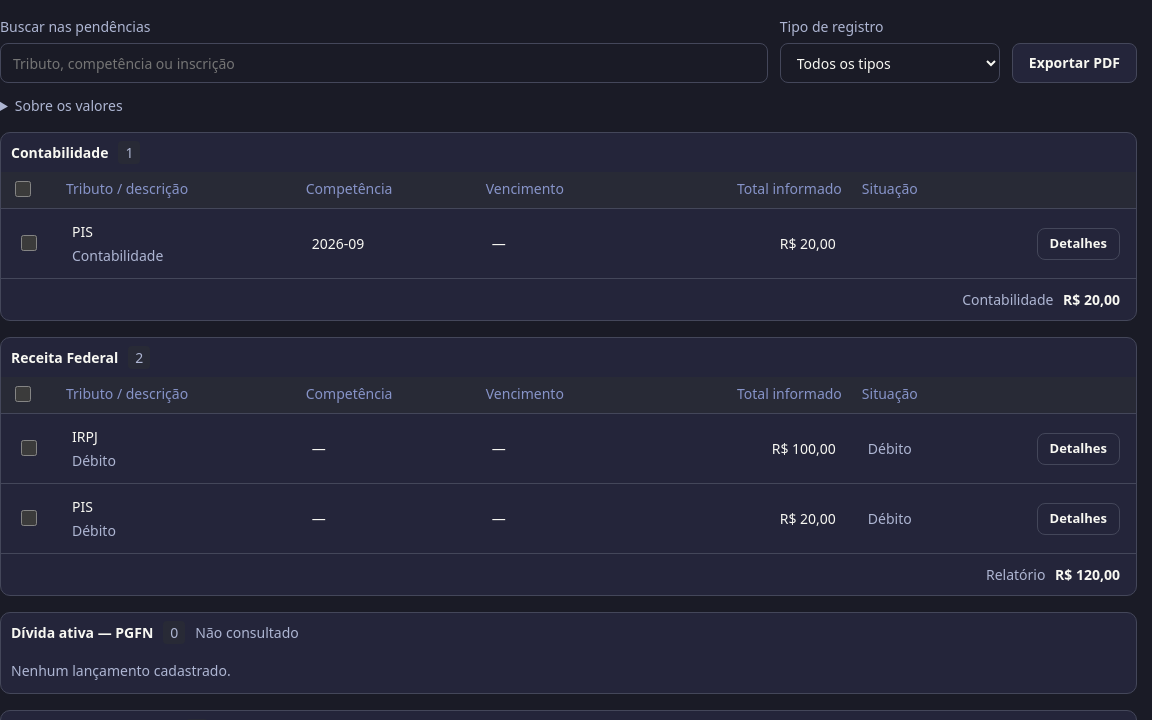
Test case: permite excluir uma fonte coincidente e registros individuais sem juntar origens
Click the button "Exportar PDF": (1074, 63) [1012,43,1137,83]
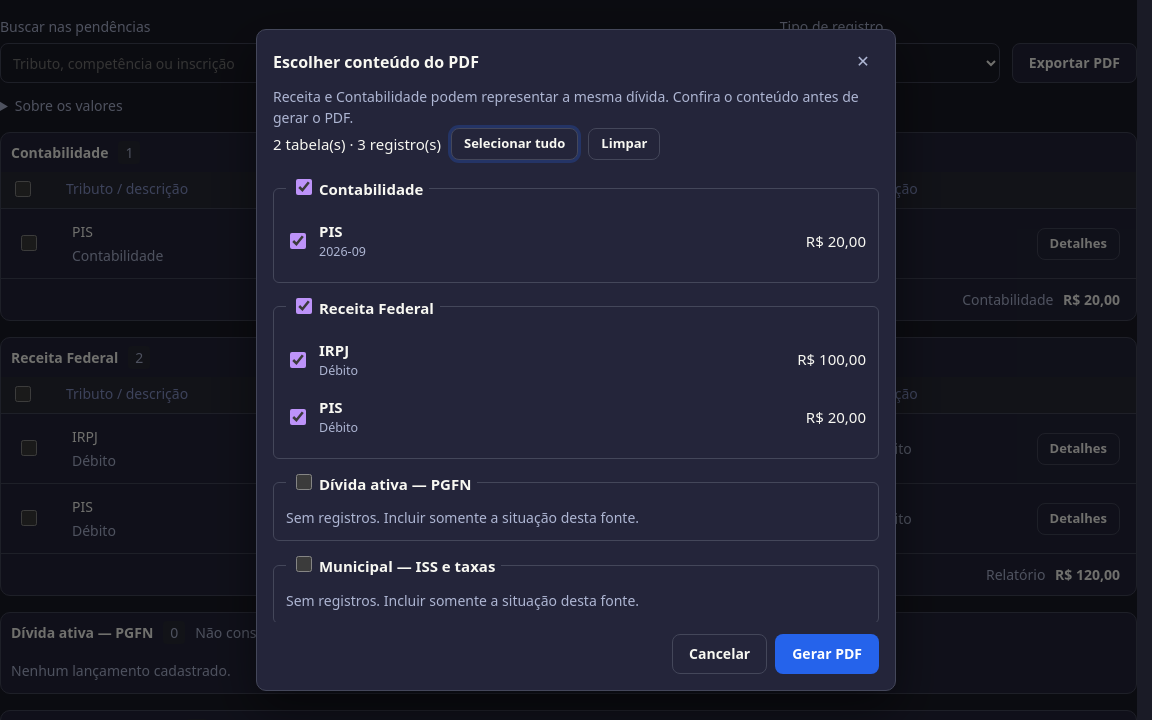
Click the checkbox named "Incluir tabela Contabilidade": (304, 187) [296,179,312,195]
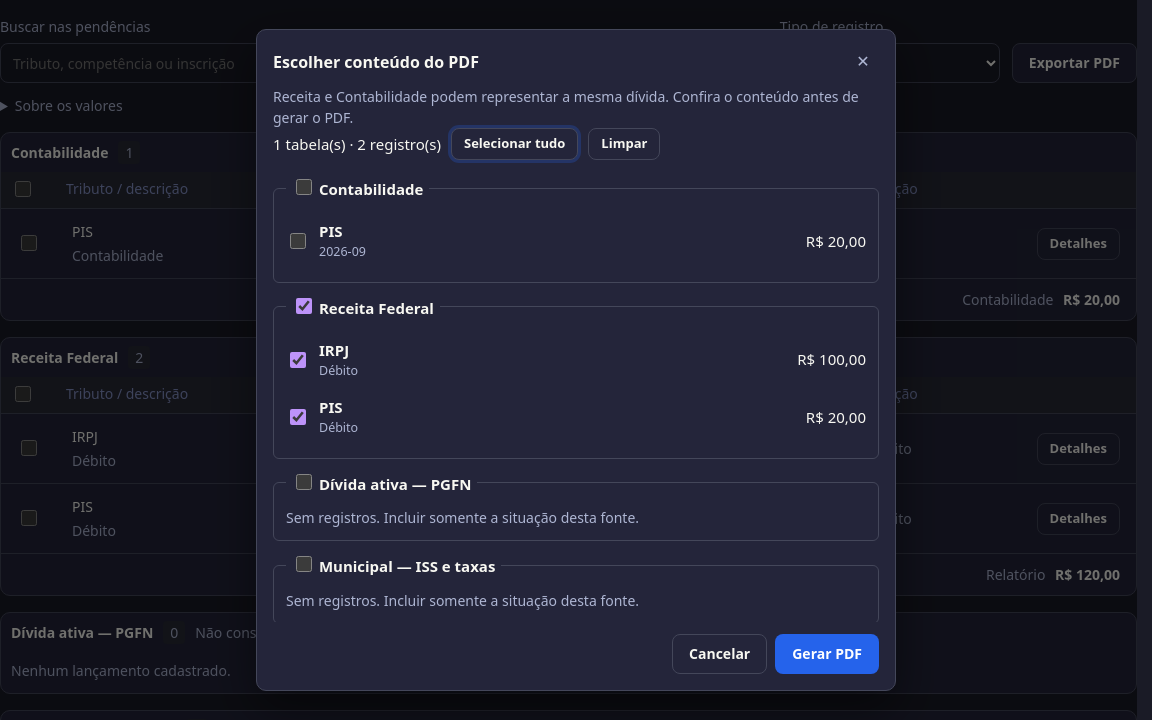
Click the checkbox named "Incluir IRPJ": (298, 360) [290,352,306,368]
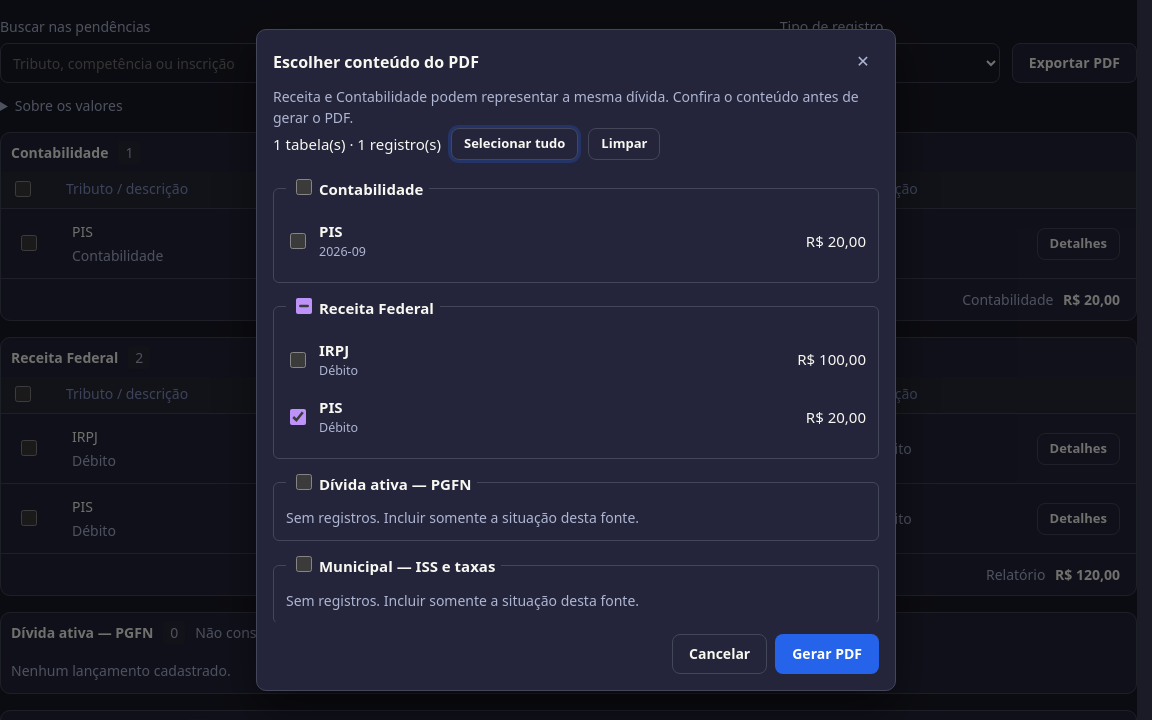
Click the button "Gerar PDF": (827, 654) [775,634,879,674]
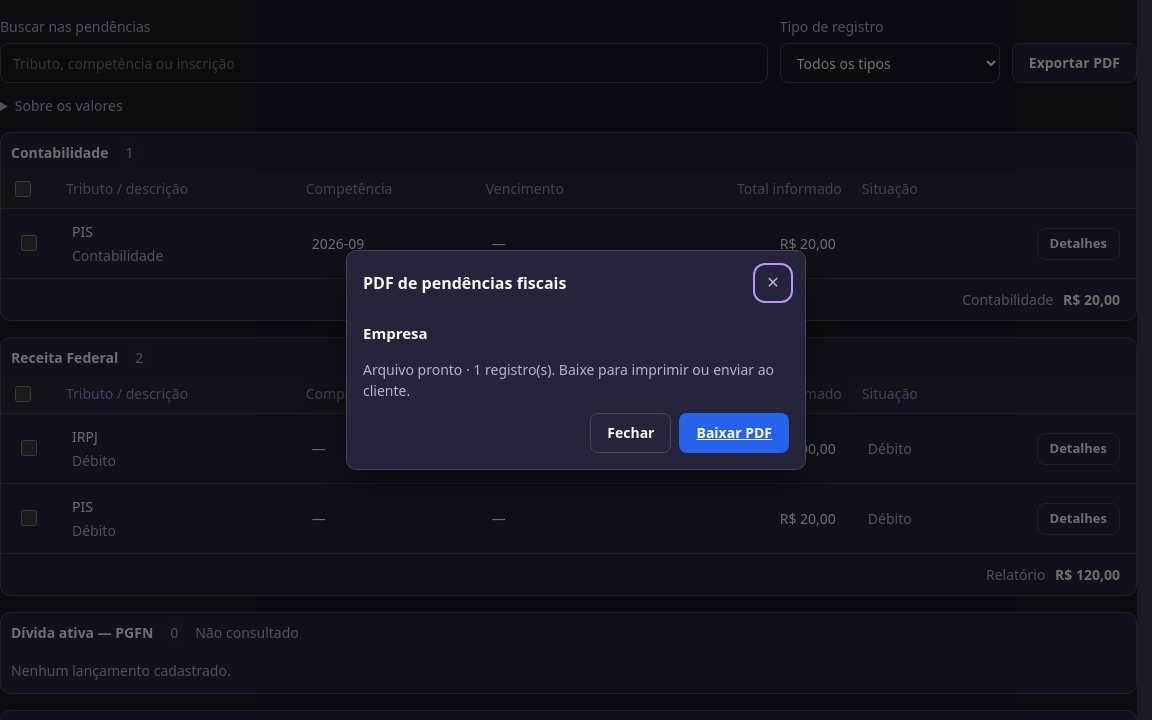
Result: the link "Baixar PDF" is shown at [680,413,789,453]
